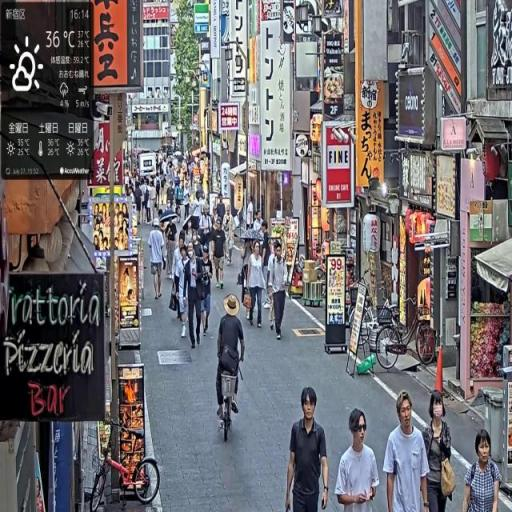person: (383, 389, 432, 511), (285, 384, 331, 512), (335, 408, 380, 511), (421, 393, 456, 512), (216, 295, 247, 424), (463, 429, 503, 512), (268, 241, 291, 343), (247, 239, 267, 331), (149, 220, 167, 301), (198, 246, 214, 337), (212, 219, 229, 290), (224, 208, 237, 270)
